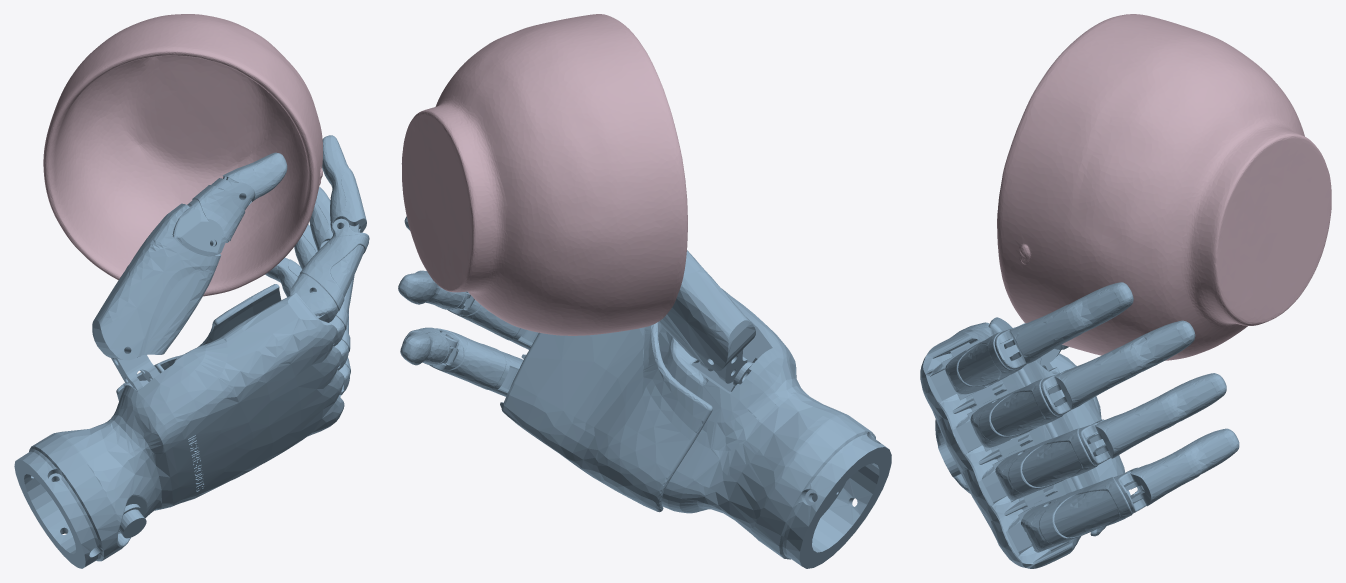
3 views of the same model, side by side, from view 1: azimuth 30°, elevation 25°; view 2: azimuth 150°, elevation 25°; view 3: azimuth 270°, elevation 25° (orthographic). The views are drawn at different scales.
Visible parts, largest first — view 1: world, obj_mesh_grasp_0.obj; view 2: obj_mesh_grasp_0.obj, world; view 3: obj_mesh_grasp_0.obj, world.
Part boxes in pixels (x1=…): world: x1=14, y1=135, x2=369, y2=568; obj_mesh_grasp_0.obj: x1=43, y1=14, x2=322, y2=296; obj_mesh_grasp_0.obj: x1=401, y1=14, x2=687, y2=335; world: x1=398, y1=216, x2=891, y2=568; obj_mesh_grasp_0.obj: x1=997, y1=14, x2=1331, y2=360; world: x1=920, y1=282, x2=1239, y2=568.
Size of the model in its own units: 0.1644 by 0.2055 by 0.1361.
